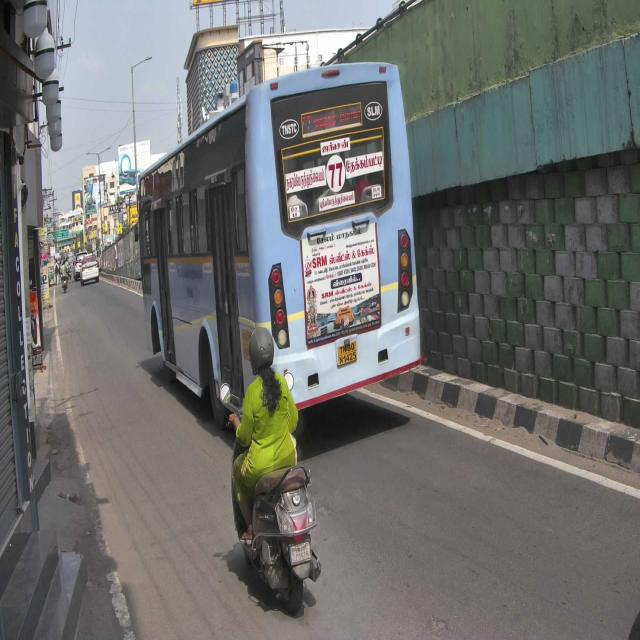single_rider: (220, 324, 322, 612)
